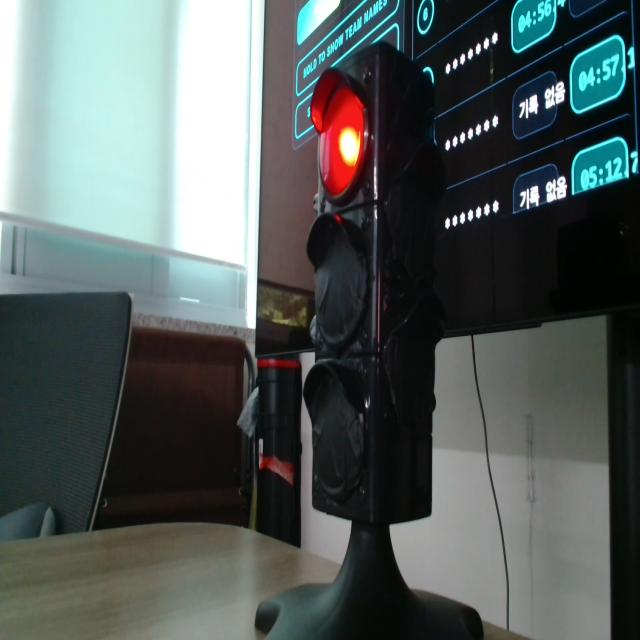red_light: (314, 76, 366, 199)
